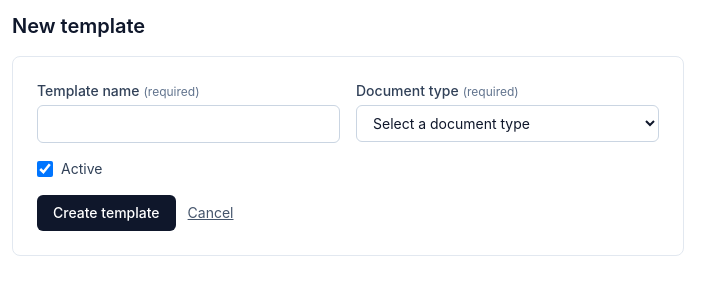
Test: TemplateCreatePage › shows backend validation errors and preserves entered values
Type "Duplicate" into the field labelled "Template name(required)".
click(188, 124); type("Duplicate")  # box [37,105,340,143]
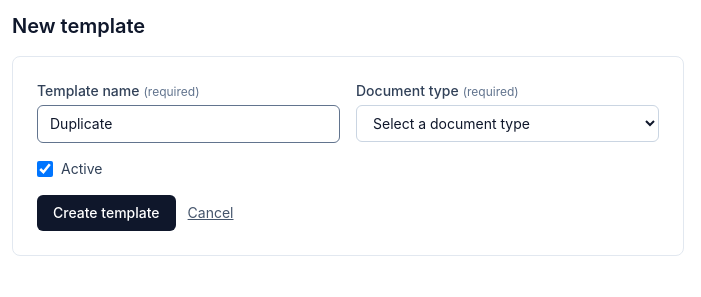
Select "Invoice" in the dropdown labelled "Document type(required)" at (508, 124), box [356,105,659,142]
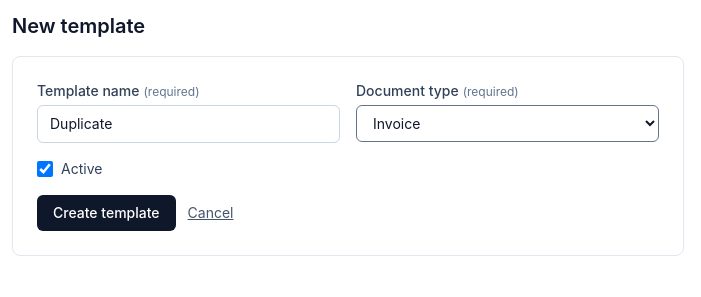
Click the button "Create template".
click(106, 213)  # box [37,195,176,231]
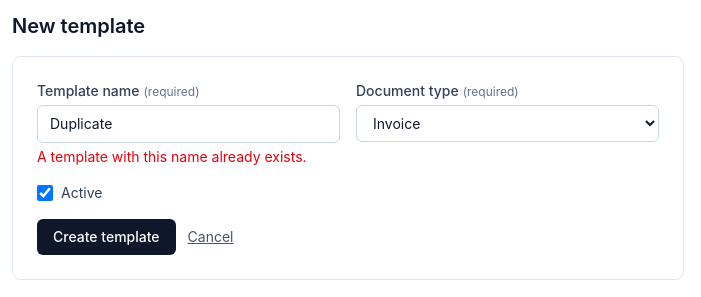
Expected: the text "A template with this name already exists." is shown, [37,147,340,167]
